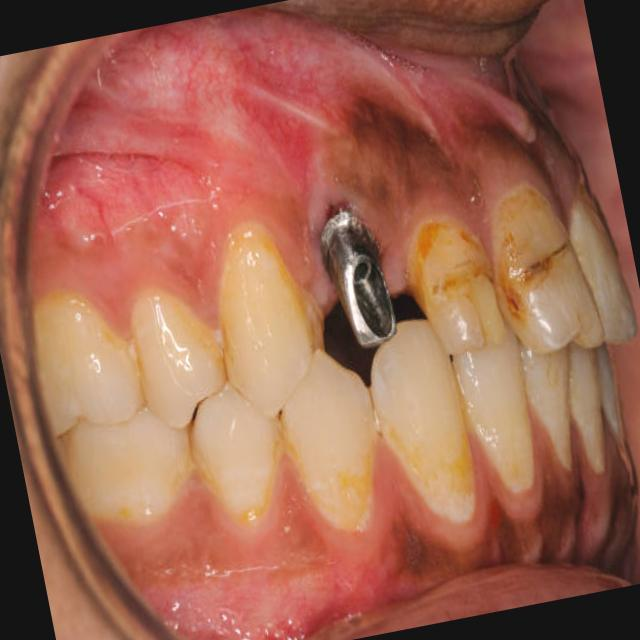redness: (326, 95, 442, 199), (471, 123, 548, 186), (489, 469, 557, 529), (381, 523, 437, 584)
